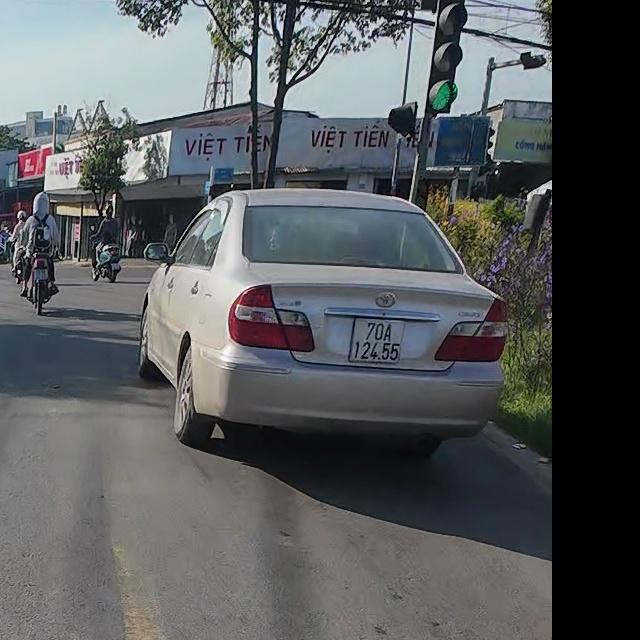license-plate: (349, 317, 404, 363)
